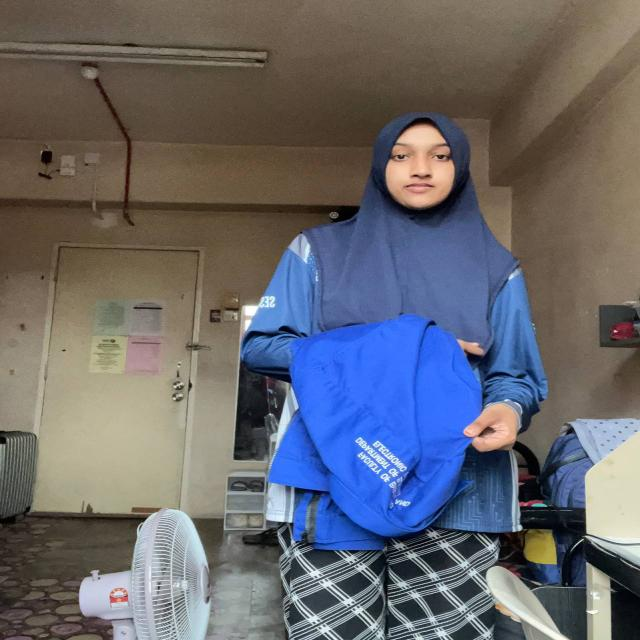person_without_labcoat: (242, 114, 546, 640)
